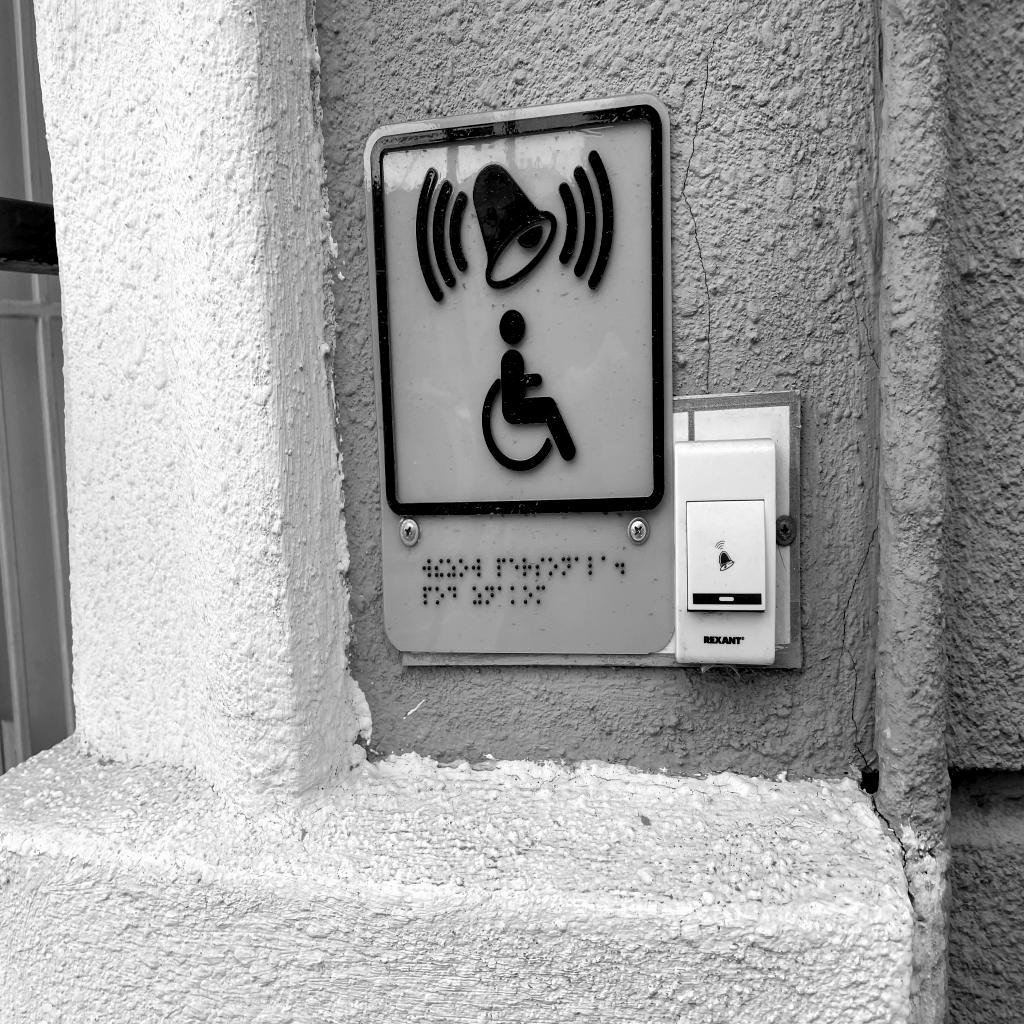_n: (560, 555, 571, 576), (484, 584, 495, 605)
a: (601, 555, 611, 576), (574, 556, 584, 576), (497, 585, 507, 605)
d: (447, 585, 457, 606)
e: (509, 557, 519, 578)
ii: (434, 557, 444, 578)
k: (510, 584, 520, 605)
l: (588, 555, 599, 576)
m: (536, 584, 546, 604)
o: (435, 585, 445, 606), (523, 584, 533, 605), (459, 557, 469, 577), (548, 556, 558, 576)
p: (496, 556, 506, 577), (422, 585, 432, 605)
r: (521, 556, 532, 577)
s: (535, 556, 544, 577)
tochka: (614, 554, 625, 575)
v: (471, 557, 481, 578), (422, 558, 432, 578)
z: (471, 584, 482, 606), (446, 557, 456, 578)
